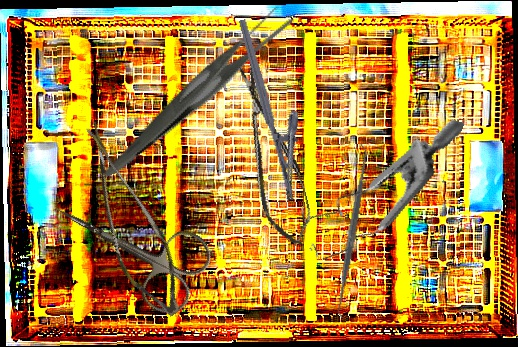Dressing Forceps: (71, 2, 322, 178)
Iris Scissors: (36, 169, 219, 323)
Micro Scissor: (42, 119, 213, 325), (228, 57, 318, 252)
Needle Holder: (236, 12, 321, 202)
Spatula Surgical: (327, 142, 377, 319)
Speculum: (287, 81, 465, 289)
